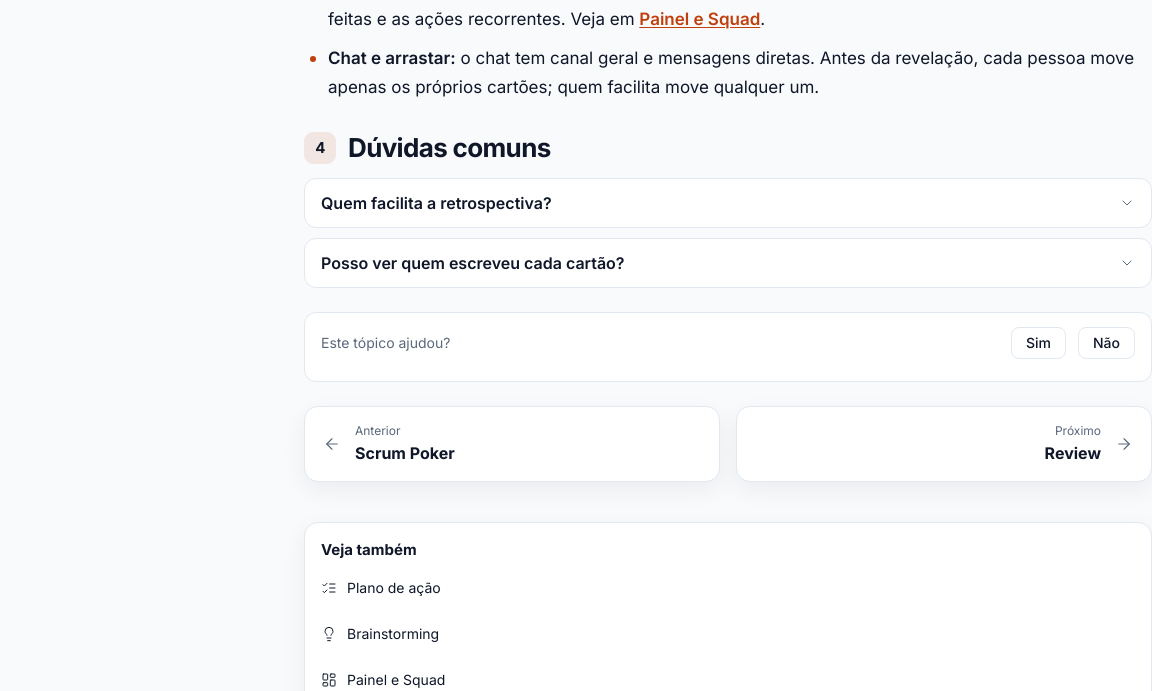
it: página de um tópico › "Este tópico ajudou?" é só visual: o "Não" leva ao Suporte e nada é enviado
This screenshot has width=1152, height=691.
(page scrolled)
Click the button "Não".
click(1106, 343)  # box x1=1078 y1=327 x2=1135 y2=359
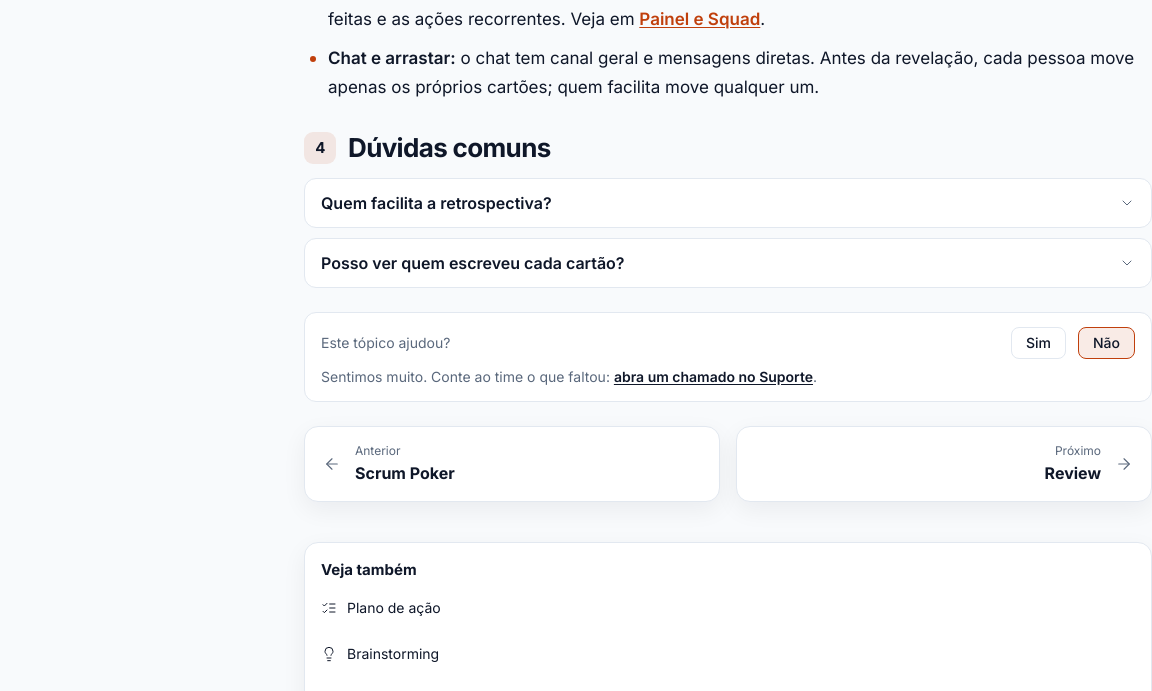
Click the button "Sim".
click(1038, 343)  # box x1=1011 y1=327 x2=1066 y2=359
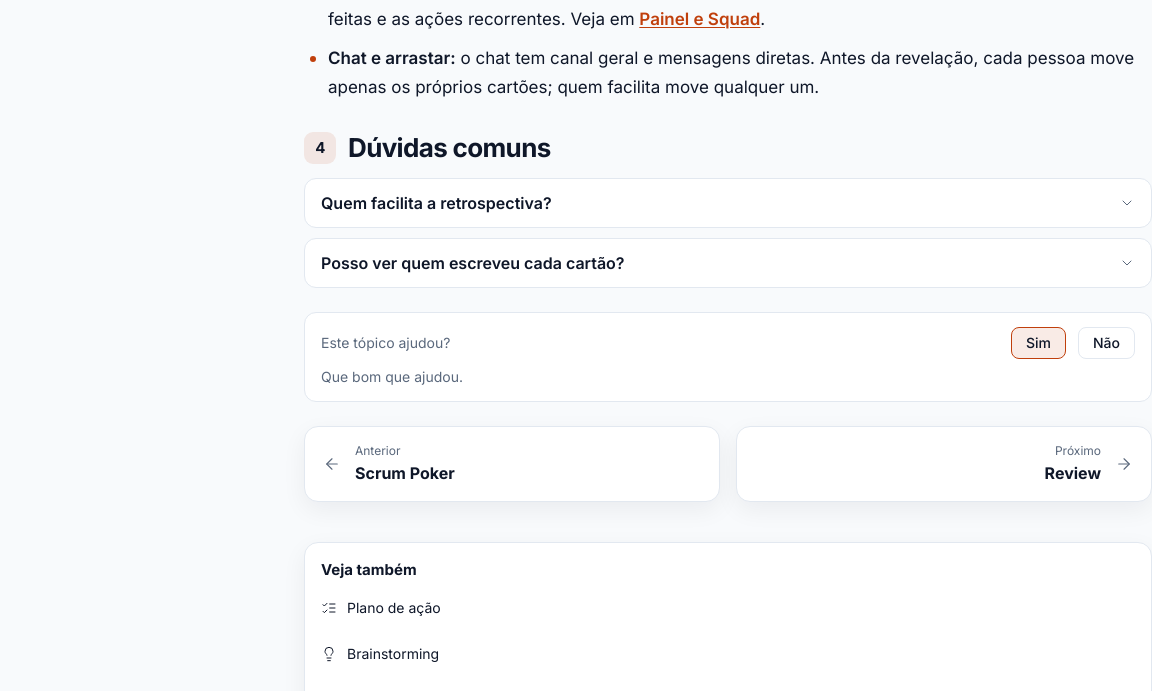
Now the text "Que bom que ajudou." is shown, box x1=321 y1=368 x2=463 y2=385
